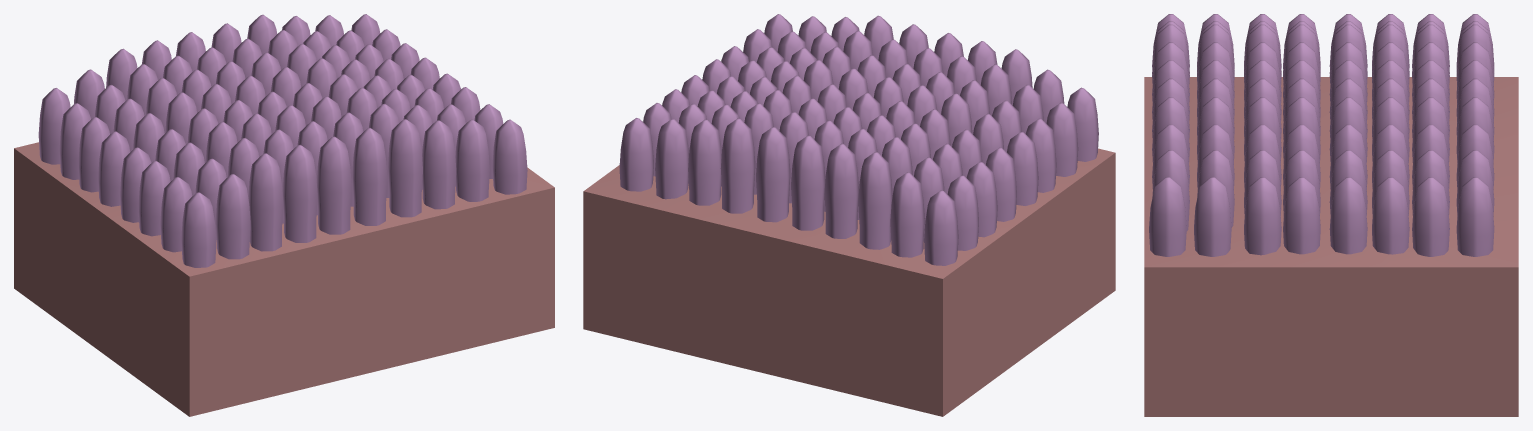
File: ville2.fbx
3 views of the same model, side by side, from view 1: azimuth 30°, elevation 25°; view 2: azimuth 150°, elevation 25°; view 3: azimuth 270°, elevation 25° (orthographic). The views are drawn at different scales.
Visible parts, largest first — view 1: pCube6, pCube82, pCube84, pCube81, pCube80, pCube76, pCube83, pCube79, pCube78, pCube77, pCube86, pCube45 (+67 smaller); view 2: pCube6, pCube37, pCube36, pCube35, pCube33, pCube34, pCube49, pCube32, pCube55, pCube44, pCube61, pCube68 (+66 smaller); view 3: pCube6, pCube61, pCube86, pCube85, pCube65, pCube66, pCube62, pCube64, pCube63, pCube78, pCube69, pCube28 (+55 smaller).
Boxes of the visible parts, left/top/right/bottom form: pCube6: left=14, top=142, right=554, bottom=416; pCube82: left=388, top=119, right=422, bottom=217; pCube84: left=282, top=144, right=317, bottom=242; pCube81: left=316, top=136, right=351, bottom=234; pCube80: left=352, top=128, right=387, bottom=225; pCube76: left=248, top=153, right=283, bottom=251; pCube83: left=422, top=120, right=456, bottom=209; pCube79: left=215, top=174, right=250, bottom=259; pCube78: left=455, top=119, right=489, bottom=201; pCube77: left=181, top=192, right=216, bottom=267; pCube86: left=492, top=119, right=527, bottom=194; pCube45: left=138, top=161, right=170, bottom=236; pCube6: left=583, top=148, right=1115, bottom=416; pCube37: left=858, top=152, right=892, bottom=249; pCube36: left=824, top=143, right=858, bottom=238; pCube35: left=791, top=135, right=825, bottom=230; pCube33: left=720, top=118, right=755, bottom=213; pCube34: left=756, top=127, right=790, bottom=222; pCube49: left=890, top=172, right=924, bottom=257; pCube32: left=688, top=119, right=721, bottom=205; pCube55: left=655, top=119, right=688, bottom=199; pCube44: left=924, top=190, right=958, bottom=265; pCube61: left=619, top=118, right=653, bottom=191; pCube68: left=1046, top=102, right=1078, bottom=176; pCube6: left=1144, top=77, right=1518, bottom=416; pCube61: left=1456, top=177, right=1494, bottom=256; pCube86: left=1149, top=177, right=1186, bottom=256; pCube85: left=1194, top=177, right=1231, bottom=256; pCube65: left=1412, top=177, right=1449, bottom=256; pCube66: left=1244, top=177, right=1281, bottom=255; pCube62: left=1372, top=177, right=1409, bottom=254; pCube64: left=1329, top=177, right=1367, bottom=254; pCube63: left=1283, top=177, right=1320, bottom=254; pCube78: left=1152, top=150, right=1189, bottom=231; pCube69: left=1197, top=150, right=1234, bottom=227; pCube28: left=1412, top=97, right=1449, bottom=162.
Bounding box in the file's own units: 327 × 198 × 272.
